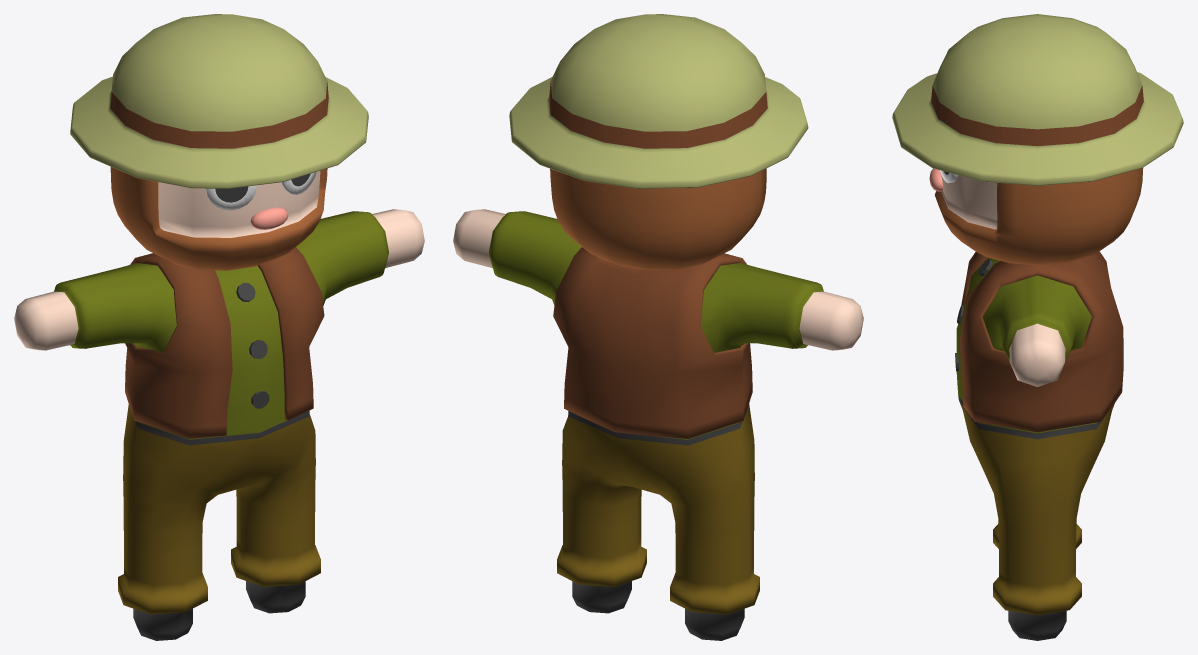
The model's file is hunter 1.fbx.
The picture shows the model from 3 angles, left to right: view 1: azimuth 30°, elevation 25°; view 2: azimuth 150°, elevation 25°; view 3: azimuth 270°, elevation 25°; orthographic projection. The views are drawn at different scales.
Visible parts, largest first — view 1: Vert; view 2: Vert; view 3: Vert.
Boxes of the visible parts, x1,y1,x2,y2 form: Vert: (14,14,424,640); Vert: (453,14,863,640); Vert: (892,14,1183,640).
Size of the model in its own units: 1.17 by 1.67 by 0.7629.
Materials: 1 (1 with a texture image).
